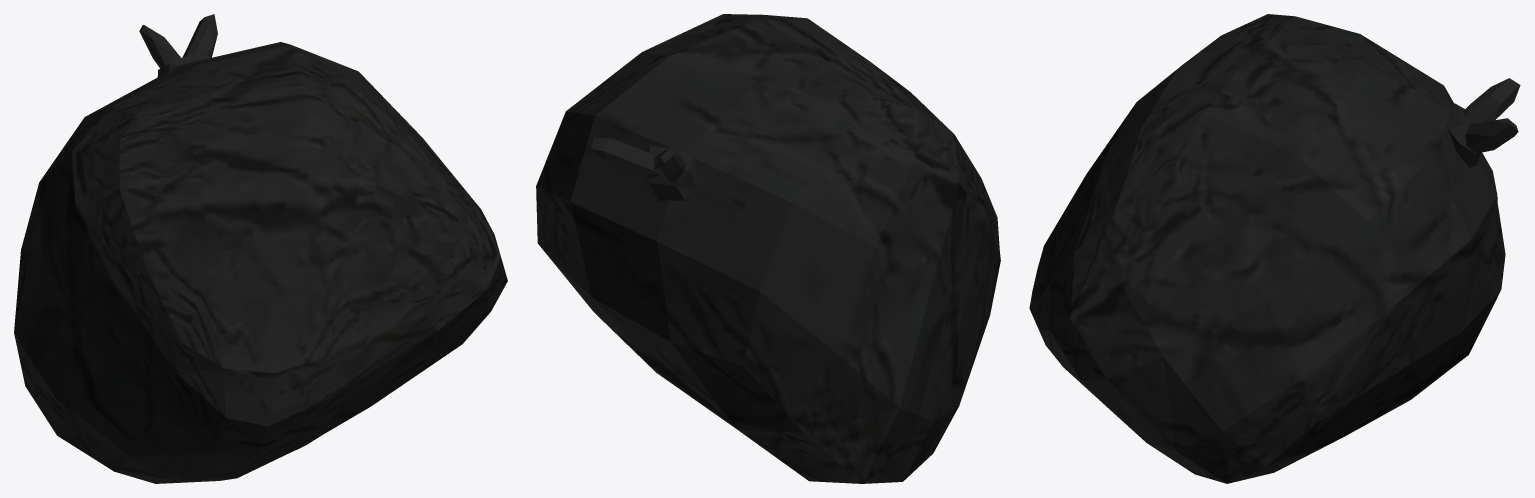
File: strProp_24.glb
3 views of the same model, side by side, from view 1: azimuth 30°, elevation 25°; view 2: azimuth 150°, elevation 25°; view 3: azimuth 270°, elevation 25° (orthographic). The views are drawn at different scales.
Parts seen in each view (by area): view 1: geometry_0; view 2: geometry_0; view 3: geometry_0.
Boxes of the visible parts, x1=… form: geometry_0: x1=14, y1=14, x2=507, y2=483; geometry_0: x1=536, y1=14, x2=1000, y2=483; geometry_0: x1=1029, y1=14, x2=1520, y2=483.
Bounding box in the file's own units: 0.5624 × 0.4993 × 0.5314.
1 material, 1 textured.
